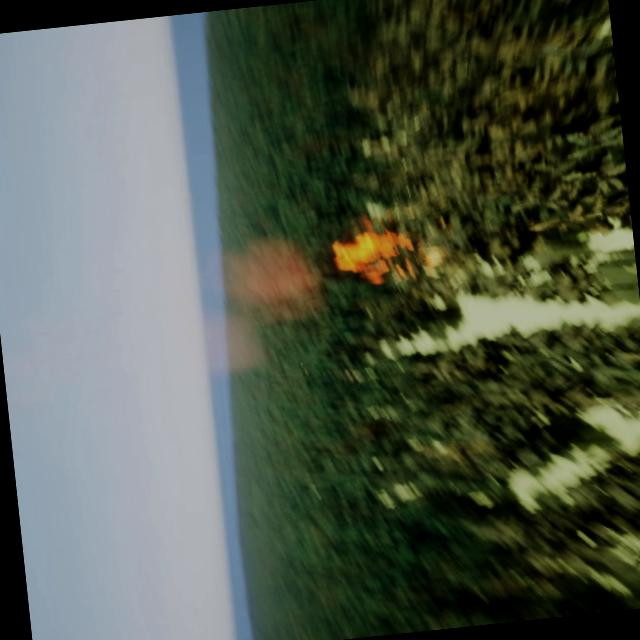fire: (328, 212, 412, 288)
smoke: (182, 227, 334, 380)
